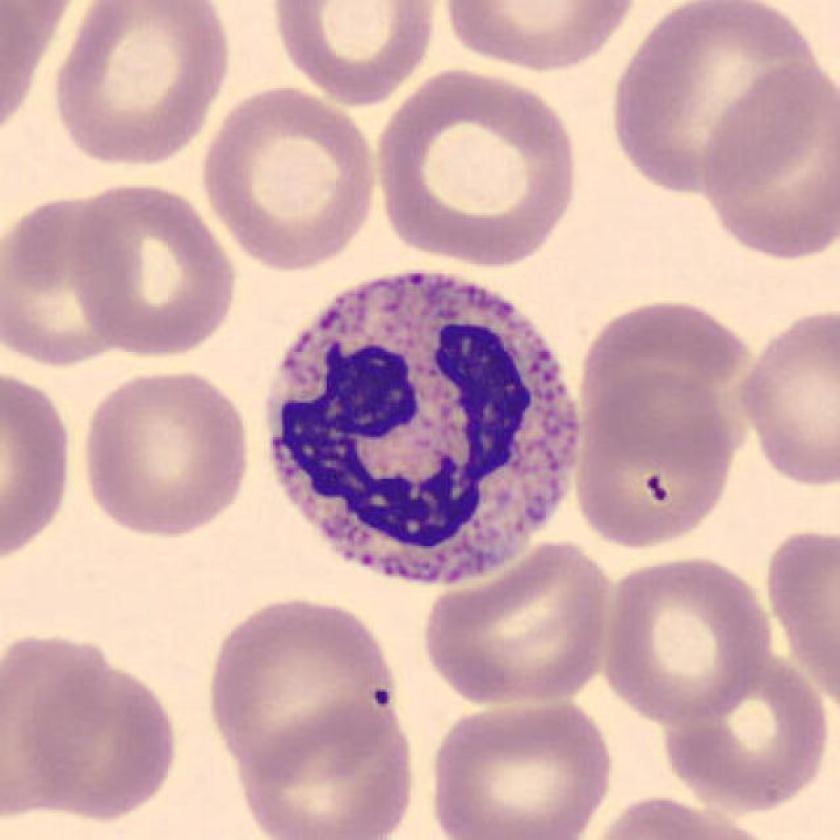neutrophil: (270, 273, 577, 585)
